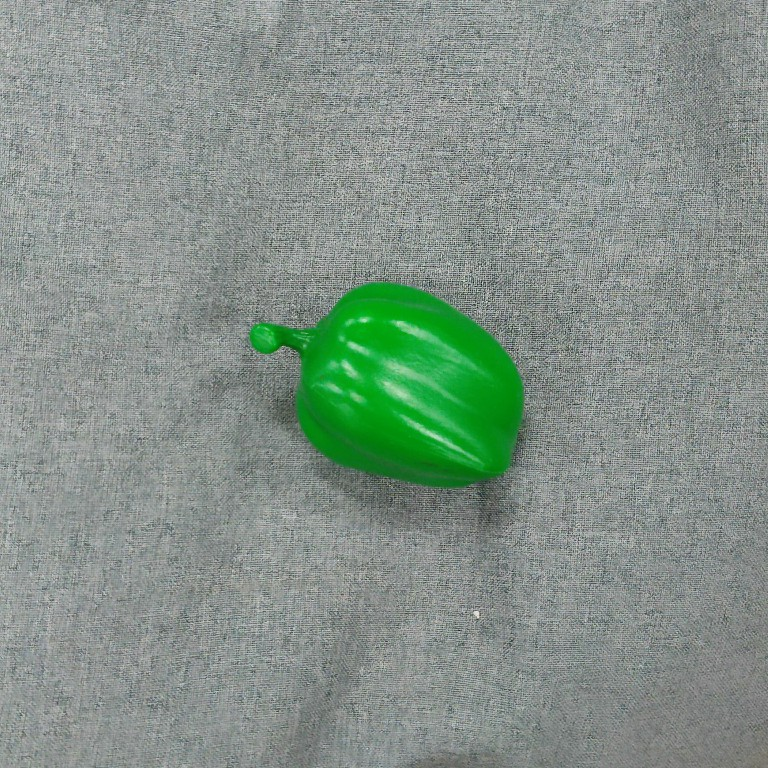fruit_pepper: (243, 275, 529, 492)
